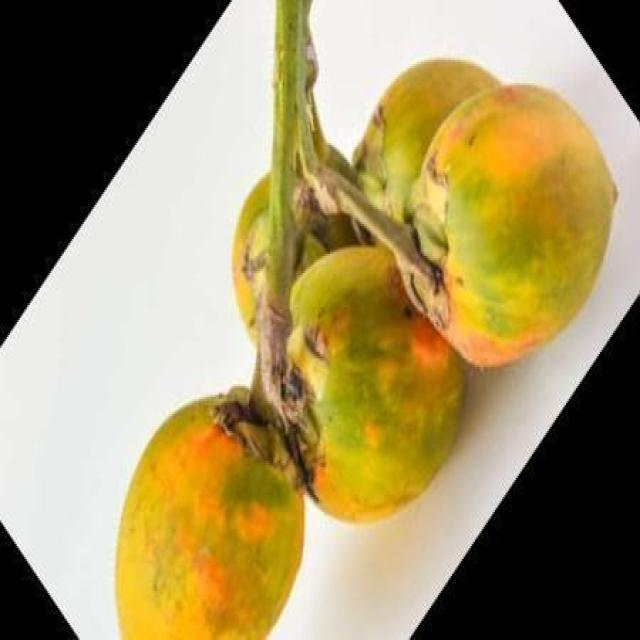good: (314, 62, 619, 371), (284, 243, 465, 527), (114, 395, 306, 638)
